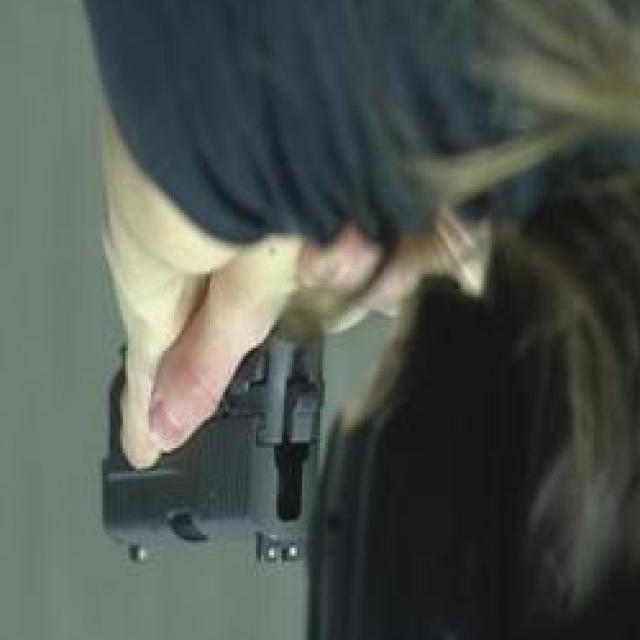pistol: (90, 311, 336, 566)
